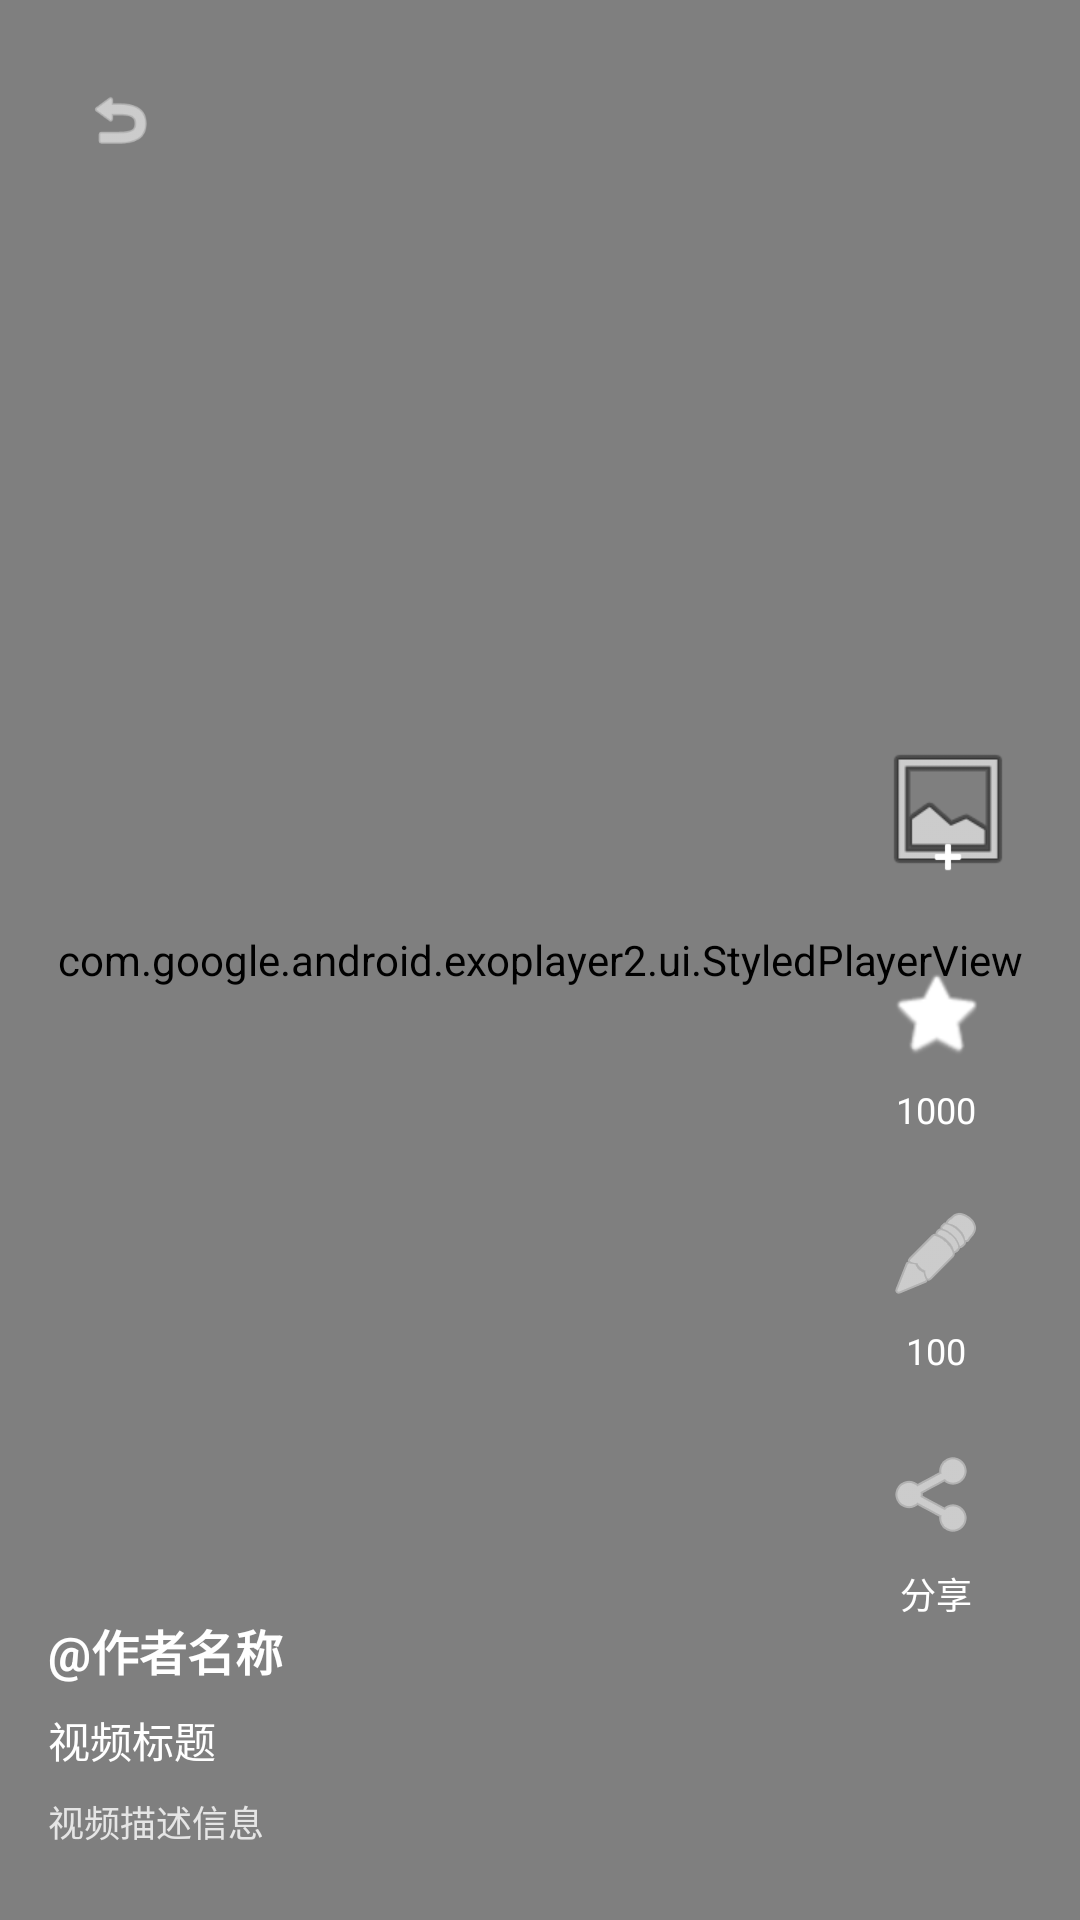

Screen size 1080x1920. Icon name, then its box in pixels as [x1=x1, y1=y1, x2=x2, y2=y2]:
edit: [x1=895, y1=1213, x2=976, y2=1294]
revert: [x1=95, y1=97, x2=147, y2=144]
share: [x1=895, y1=1457, x2=967, y2=1532]
